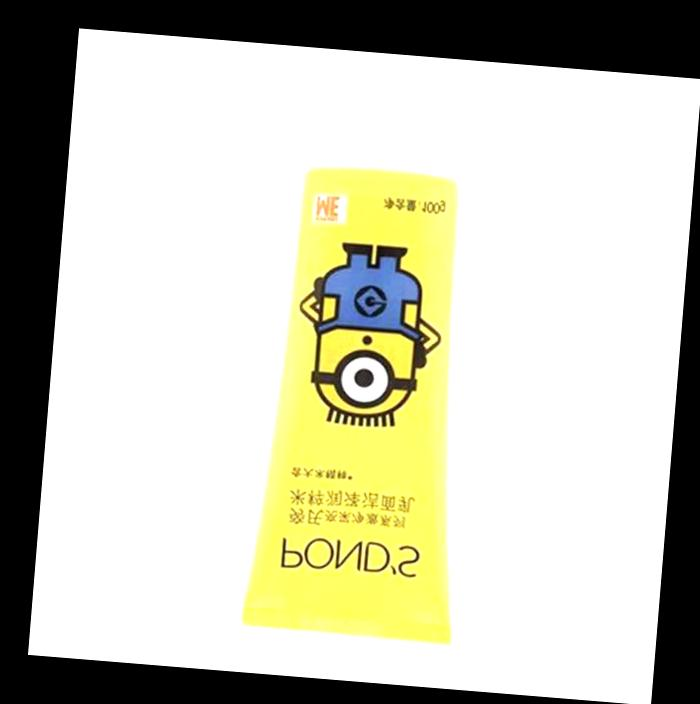cosmetic: (235, 70, 501, 643)
